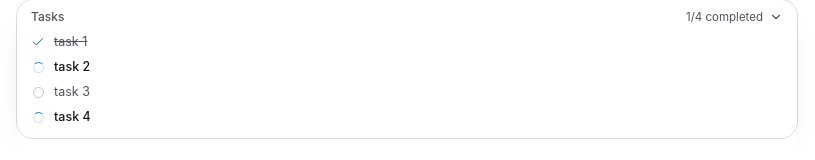
TodoDock collapsed summary › shows the first task in progress and counts the others apart
Click the button with class "ohb-todo-toggle" at (48, 16), box [27,9,787,30]
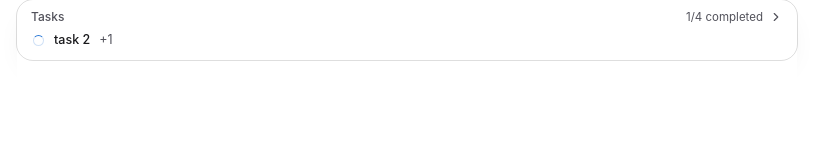
Expected: the text with class "ohb-todo-text" reads "task 2", [54,32,90,47]
Expected: the text with class "ohb-todo-more" reads "+1", [99,31,113,49]
